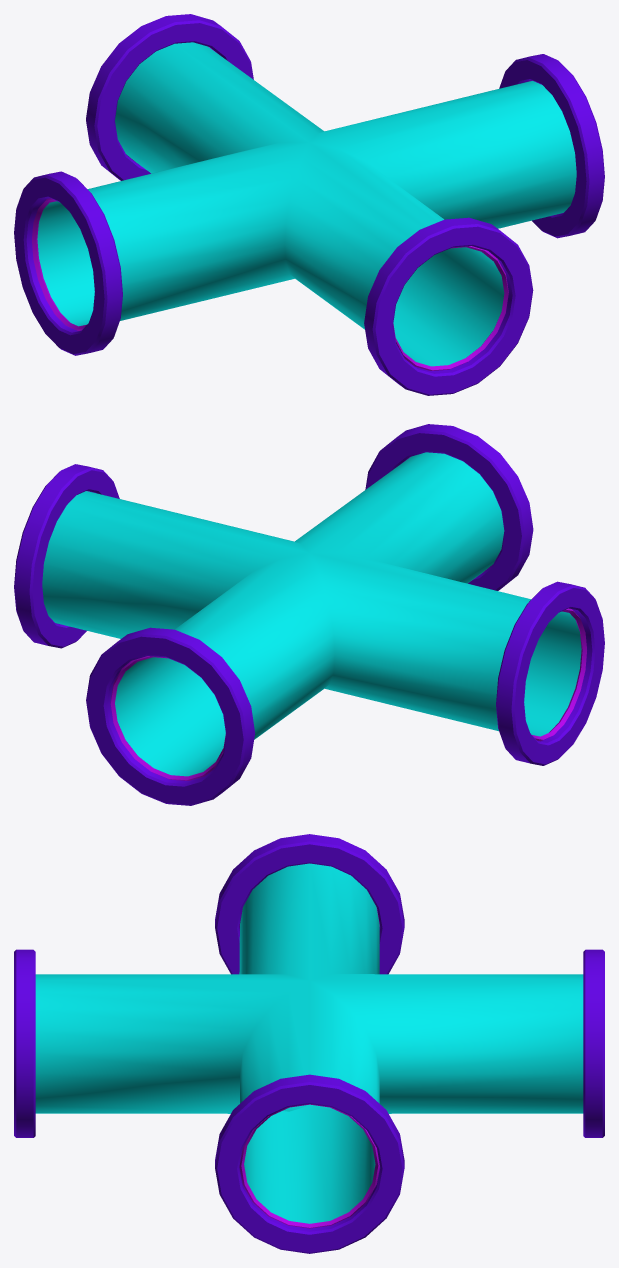
Rendered from X Junction.fbx.
The picture shows the model from 3 angles, top to bottom: view 1: azimuth 30°, elevation 25°; view 2: azimuth 150°, elevation 25°; view 3: azimuth 270°, elevation 25°; orthographic projection. The views are drawn at different scales.
Visible parts, largest first — view 1: SmartCombine_1; view 2: SmartCombine_1; view 3: SmartCombine_1.
Part boxes in pixels (box(x1,y1,x2,y2)): SmartCombine_1: box(14, 14, 604, 395); SmartCombine_1: box(14, 424, 604, 805); SmartCombine_1: box(14, 834, 604, 1253).
Bounding box in the file's own units: 77.87 × 25 × 77.88.
